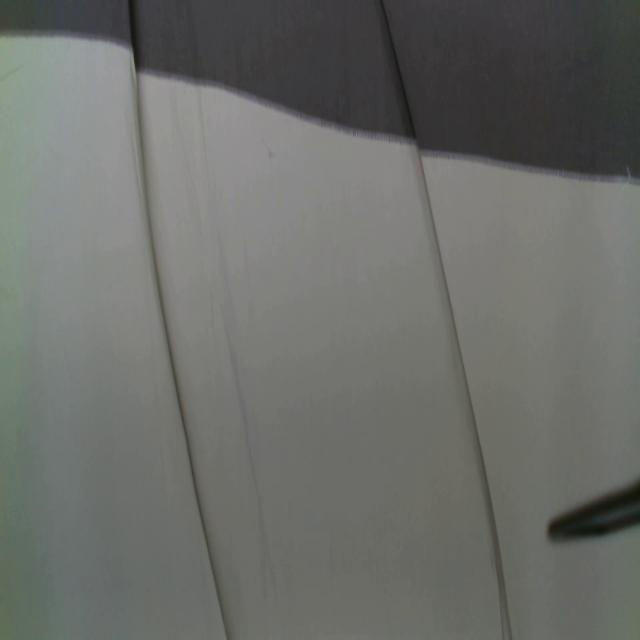crease: (379, 0, 513, 638), (127, 0, 228, 639)
